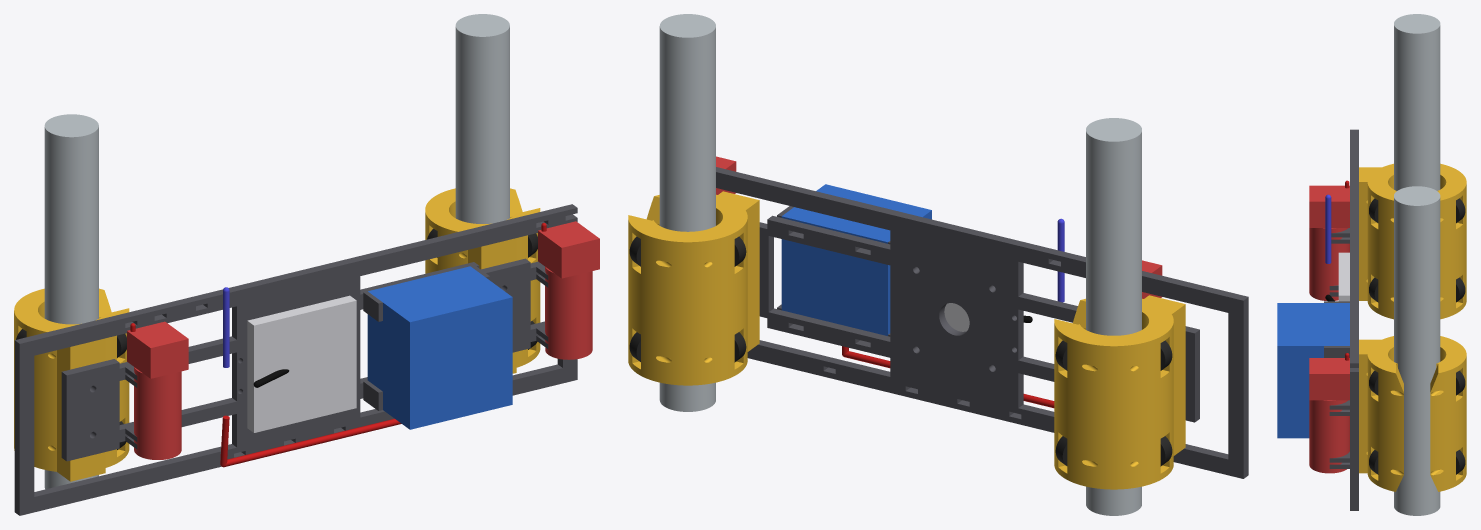
File: cart-base-v1.glb
The picture shows the model from 3 angles, left to right: view 1: azimuth 30°, elevation 25°; view 2: azimuth 150°, elevation 25°; view 3: azimuth 270°, elevation 25°; orthographic projection. The views are drawn at different scales.
Visible parts, largest first — view 1: base_plate, battery, drive_motors, arm_base_footprint, track_pipe_B, track_pipe_C, hand_on_pipe_B_sleeve, hand_on_pipe_C_sleeve, cable_12V, battery_corner_stops, motor_saddles; view 2: base_plate, hand_on_pipe_C_sleeve, hand_on_pipe_B_sleeve, track_pipe_C, track_pipe_B, battery, hand_on_pipe_B_wheels, hand_on_pipe_C_wheels; view 3: track_pipe_C, hand_on_pipe_C_sleeve, hand_on_pipe_B_sleeve, track_pipe_B, drive_motors, battery, base_plate, motor_saddles, hand_on_pipe_B_wheels, hand_on_pipe_C_wheels, arm_base_footprint, cable_usb (+1 smaller).
Part boxes in pixels (x1,y1,x2,y2): base_plate: [14, 204, 577, 515]; battery: [367, 266, 512, 429]; drive_motors: [127, 221, 599, 459]; arm_base_footprint: [247, 295, 356, 432]; track_pipe_B: [44, 114, 98, 489]; track_pipe_C: [455, 14, 509, 223]; hand_on_pipe_B_sleeve: [14, 288, 129, 481]; hand_on_pipe_C_sleeve: [425, 188, 540, 373]; cable_12V: [220, 415, 401, 467]; battery_corner_stops: [363, 265, 489, 410]; motor_saddles: [125, 265, 548, 449]; base_plate: [716, 167, 1248, 478]; hand_on_pipe_C_sleeve: [628, 191, 759, 385]; hand_on_pipe_B_sleeve: [1054, 295, 1185, 489]; track_pipe_C: [659, 14, 715, 411]; track_pipe_B: [1086, 118, 1141, 515]; battery: [781, 184, 931, 335]; hand_on_pipe_B_wheels: [1055, 340, 1172, 466]; hand_on_pipe_C_wheels: [629, 236, 746, 362]; track_pipe_C: [1394, 186, 1440, 515]; hand_on_pipe_C_sleeve: [1359, 336, 1466, 491]; hand_on_pipe_B_sleeve: [1359, 163, 1466, 319]; track_pipe_B: [1394, 14, 1440, 190]; drive_motors: [1309, 185, 1349, 473]; battery: [1277, 303, 1349, 438]; base_plate: [1350, 129, 1358, 510]; motor_saddles: [1329, 228, 1349, 468]; hand_on_pipe_B_wheels: [1369, 198, 1465, 302]; hand_on_pipe_C_wheels: [1369, 370, 1465, 474]; arm_base_footprint: [1338, 252, 1349, 301]; cable_usb: [1325, 194, 1331, 263].
Size of the model in its own units: 380 by 235 by 130.
